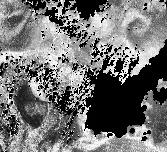AE: (120, 10, 152, 39)
